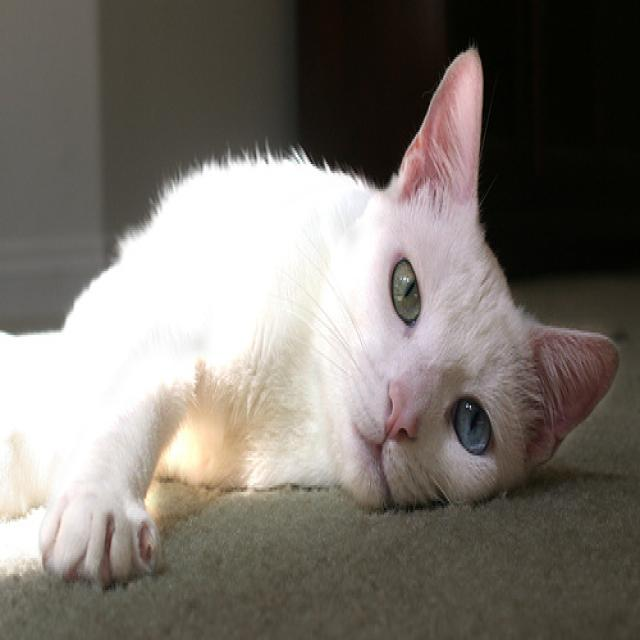cat: (1, 44, 621, 591)
